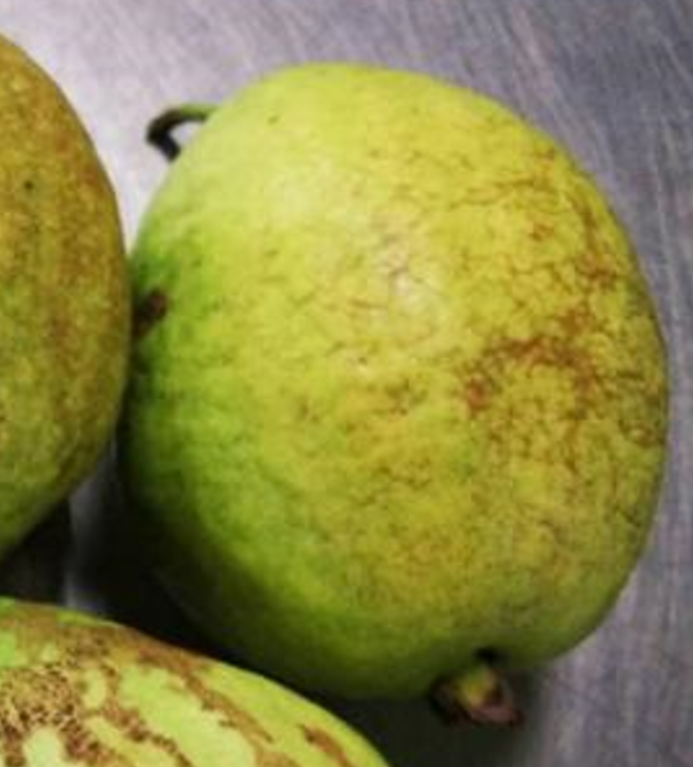guava_B: (112, 58, 673, 729)
